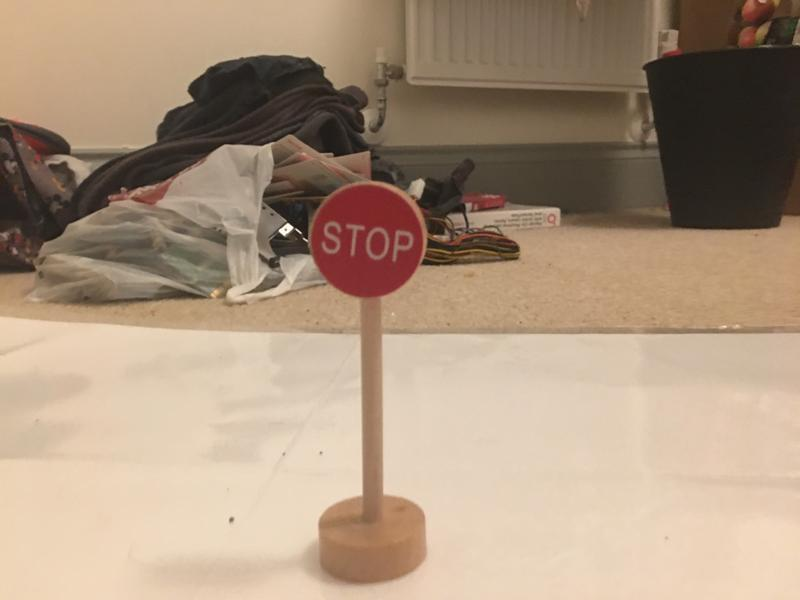Traffic_Sign_Stop: (309, 182, 426, 301)
